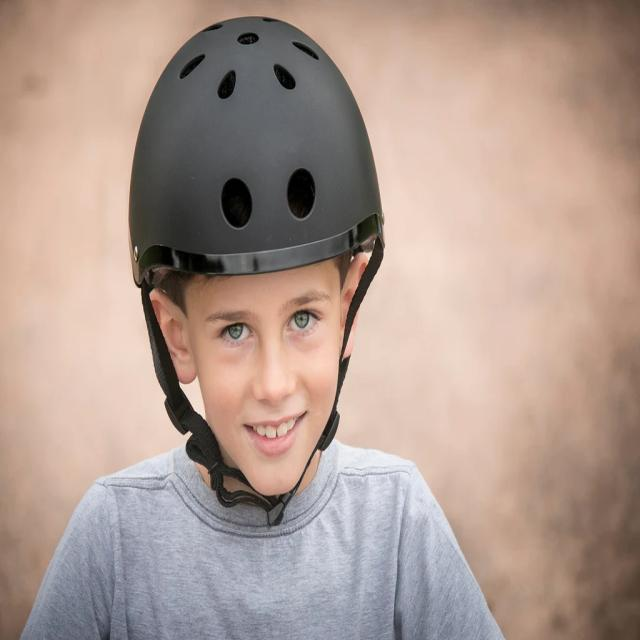Helmet: (129, 17, 384, 525)
